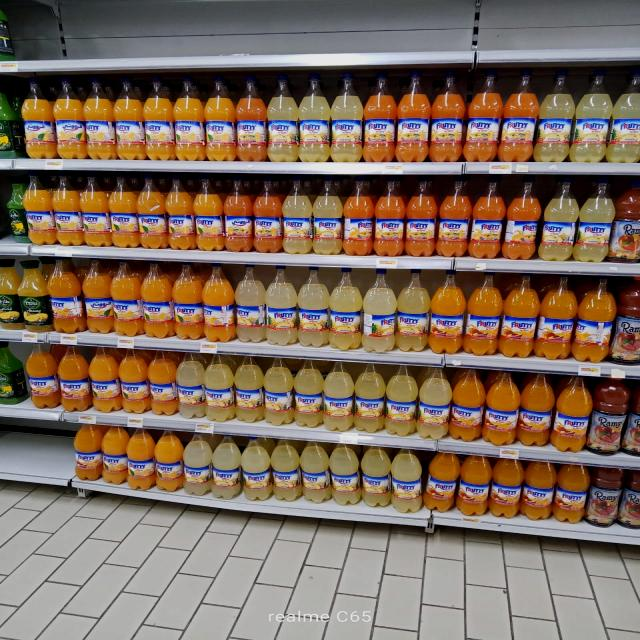PET Frutty Or-abricot 2 L: (499, 68, 537, 161), (360, 67, 397, 162), (429, 69, 463, 162), (468, 70, 500, 162), (507, 175, 540, 261), (235, 73, 265, 164), (400, 70, 429, 162), (221, 177, 255, 253), (406, 176, 436, 257), (375, 176, 405, 256), (344, 177, 374, 254), (476, 179, 505, 257), (442, 176, 471, 254), (346, 176, 372, 256), (254, 178, 281, 254)
PET Frutty orange peche 2L: (577, 276, 611, 362), (432, 271, 466, 354), (467, 271, 500, 355), (504, 273, 536, 358), (542, 276, 574, 360), (517, 374, 553, 445), (486, 370, 517, 445), (556, 376, 585, 454), (453, 369, 483, 444), (26, 344, 58, 408), (458, 452, 489, 516), (491, 456, 522, 518), (61, 345, 88, 412), (556, 464, 586, 522), (74, 424, 102, 480), (428, 452, 454, 511), (526, 462, 551, 520)
PET RAMY COCKTAIL 125L: (614, 216, 640, 263), (616, 313, 640, 363), (594, 410, 620, 452), (590, 486, 617, 526)
PET_Frutty_Orange_2Lpng: (76, 258, 115, 340), (174, 80, 209, 164), (204, 75, 237, 164), (111, 79, 146, 162), (200, 264, 236, 343), (17, 80, 53, 158), (172, 263, 204, 347), (140, 260, 173, 341), (55, 79, 87, 161), (78, 170, 110, 250), (110, 258, 142, 338), (167, 175, 198, 255), (194, 174, 225, 253), (22, 175, 56, 247), (87, 81, 116, 162), (108, 170, 137, 250), (86, 346, 120, 412), (147, 348, 179, 418), (55, 174, 83, 248), (117, 348, 148, 414), (138, 178, 167, 248), (150, 77, 173, 163), (128, 427, 155, 494), (158, 426, 182, 493), (102, 424, 127, 486)
ramy frutty ananas: (577, 68, 610, 163), (232, 262, 268, 346), (300, 70, 331, 165), (280, 174, 315, 256), (264, 264, 299, 346), (546, 176, 580, 260), (581, 176, 613, 263), (541, 69, 571, 160), (332, 72, 363, 160), (330, 269, 362, 352), (398, 270, 430, 352), (298, 266, 330, 348), (270, 72, 298, 164), (321, 357, 355, 432), (366, 270, 396, 353), (615, 67, 640, 165), (204, 353, 237, 423), (357, 359, 387, 436), (317, 178, 345, 260), (390, 362, 419, 437), (236, 354, 266, 426), (329, 440, 362, 505), (181, 430, 213, 496), (213, 432, 244, 500), (391, 447, 422, 514), (266, 354, 294, 427), (422, 366, 449, 439), (297, 359, 325, 429), (179, 350, 206, 420), (272, 438, 302, 501), (361, 444, 390, 508), (244, 436, 272, 500), (302, 439, 329, 504)
tazej: (19, 256, 51, 330), (5, 201, 22, 229), (21, 296, 45, 312), (0, 294, 13, 308)
